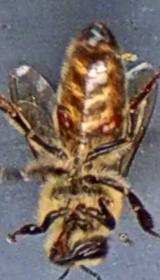varroa_mite: (48, 96, 75, 133), (90, 116, 126, 138)
